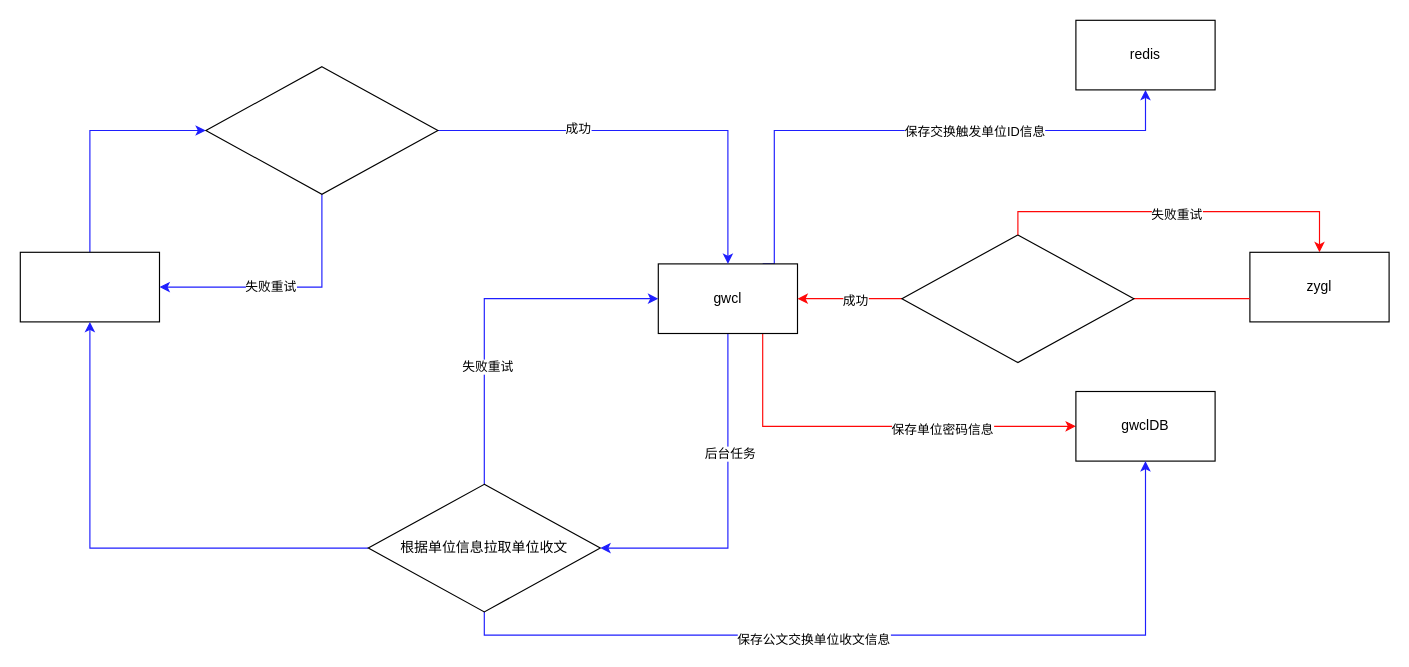
This 1409x667 diagram has some shape labels left out. The centre of each missing label's shape, as x and y in pixels:
"gwjh" belongs at point 89,286.
"推送单位密码信息" belongs at point 1017,298.
"触发拉取收文" belongs at point 321,130.
